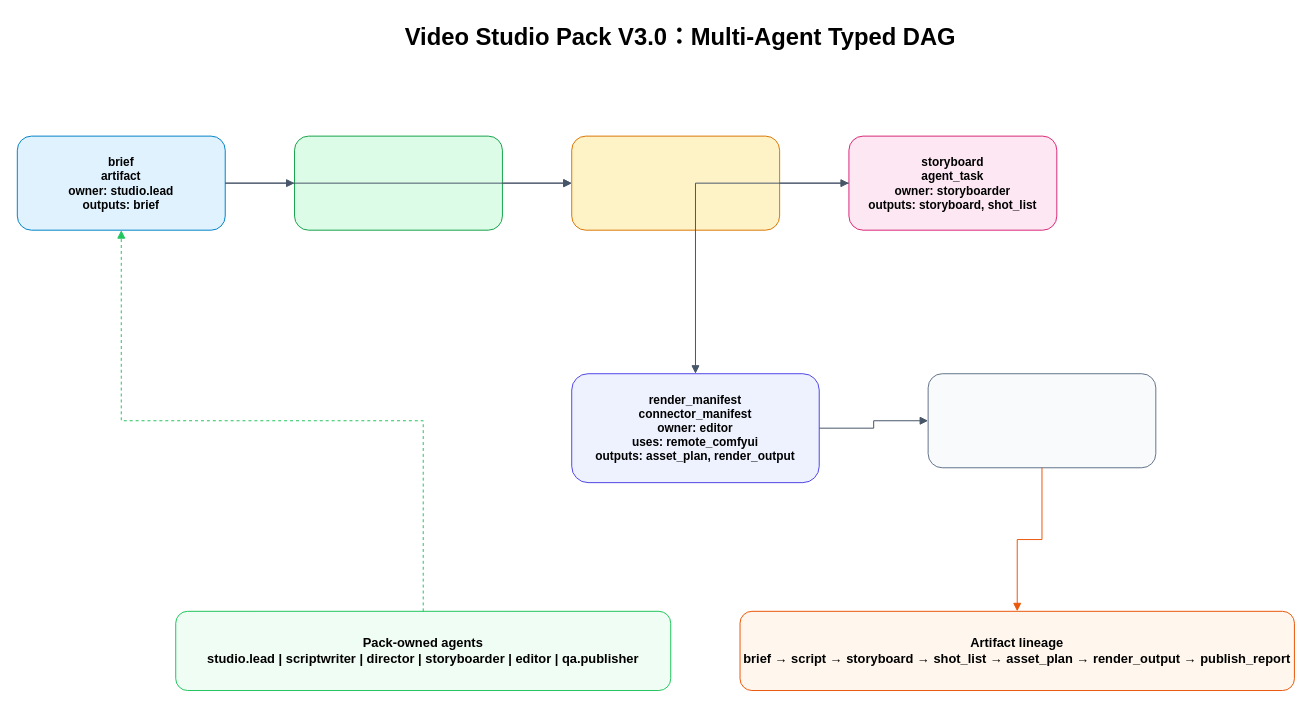
The diagram is 1312 pixels wide and 708 high, and some of its shapes have lost their labels. The shapes that lost their labels are listed below. From the top down, each one's centre as x and y in pixels, then its label:
At point (398, 182): "script agent_task owner: scriptwriter outputs: script".
At point (675, 182): "direction agent_task owner: director outputs: direction_notes".
At point (1041, 420): "publish_review agent_task owner: qa.publisher outputs: publish_report".
